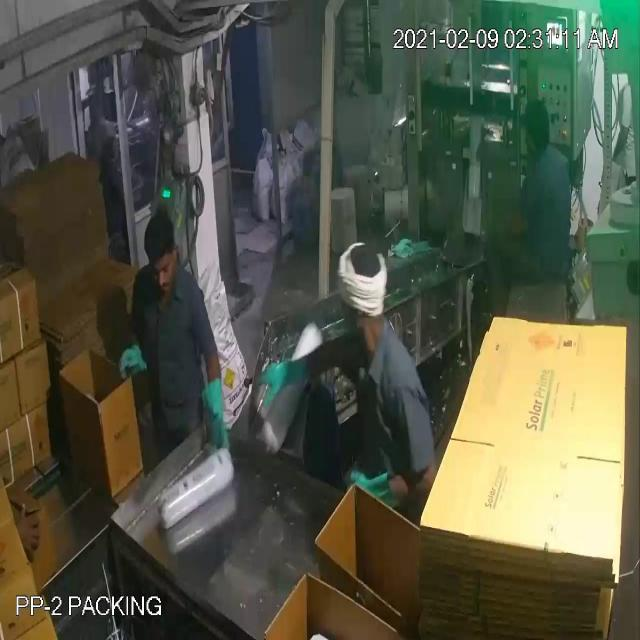Gloves: (46, 65, 376, 493)
